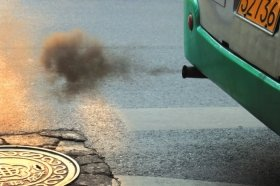smoke: (35, 29, 181, 103)
